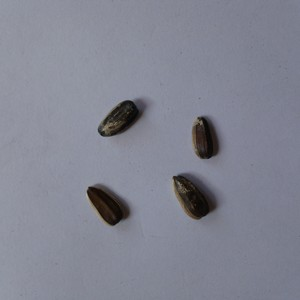girasol: (170, 174, 214, 221), (96, 97, 142, 139), (82, 184, 125, 227), (190, 113, 219, 161)
